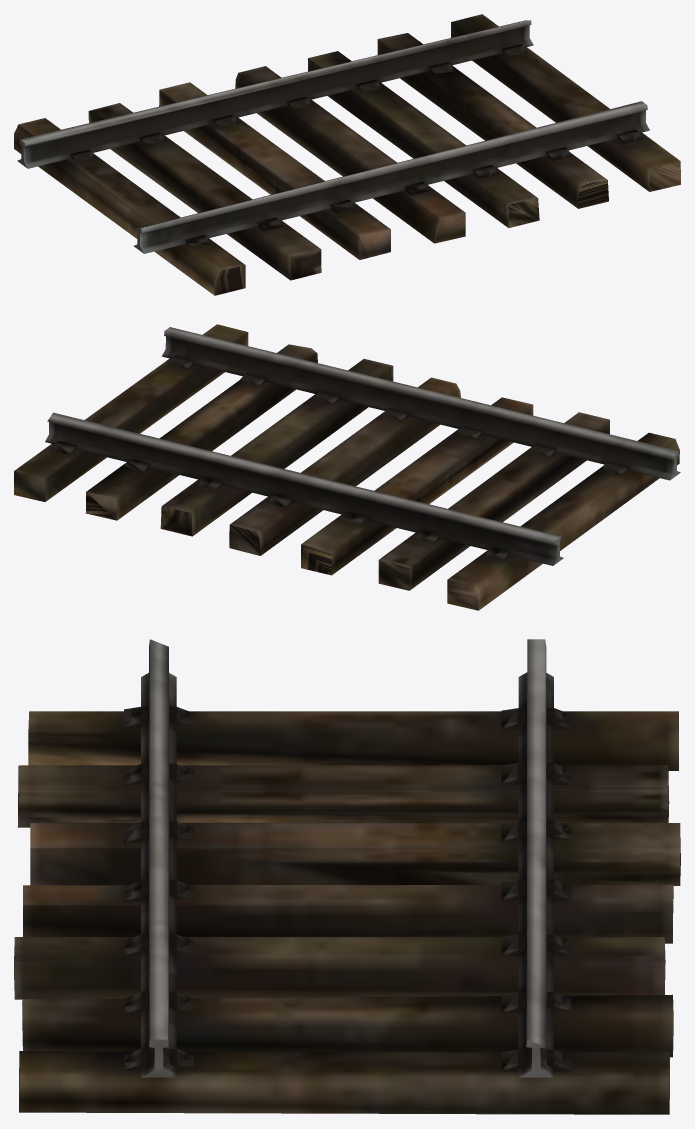
File: rail-track.lod1.glb
3 renders of one model, top to bottom at view 1: azimuth 30°, elevation 25°; view 2: azimuth 150°, elevation 25°; view 3: azimuth 270°, elevation 25°, orthographic. The views are drawn at different scales.
Visible parts, largest first — view 1: railroad_gav_railroad_gav_0; view 2: railroad_gav_railroad_gav_0; view 3: railroad_gav_railroad_gav_0.
Part boxes in pixels (bbox=[...]): railroad_gav_railroad_gav_0: bbox=[14, 14, 680, 295]; railroad_gav_railroad_gav_0: bbox=[14, 324, 680, 610]; railroad_gav_railroad_gav_0: bbox=[14, 639, 680, 1114].
Size of the model in its own units: 4 by 0.3682 by 2.82.
1 material, 1 textured.
